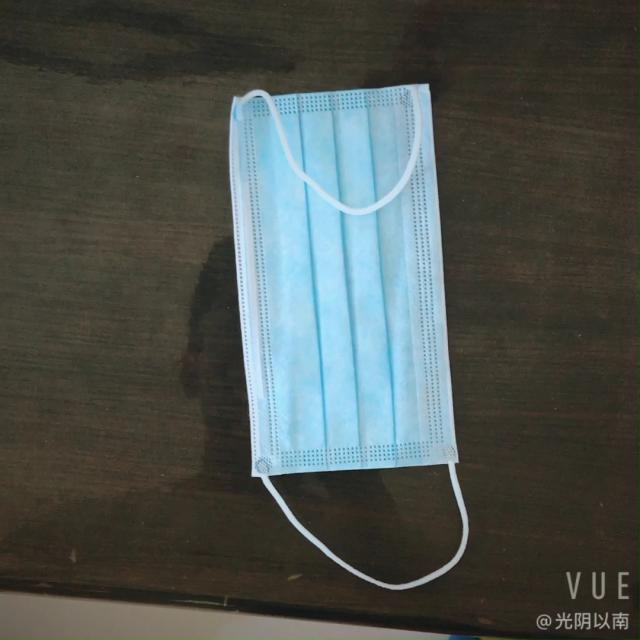non-organic waste: (224, 79, 454, 486)
